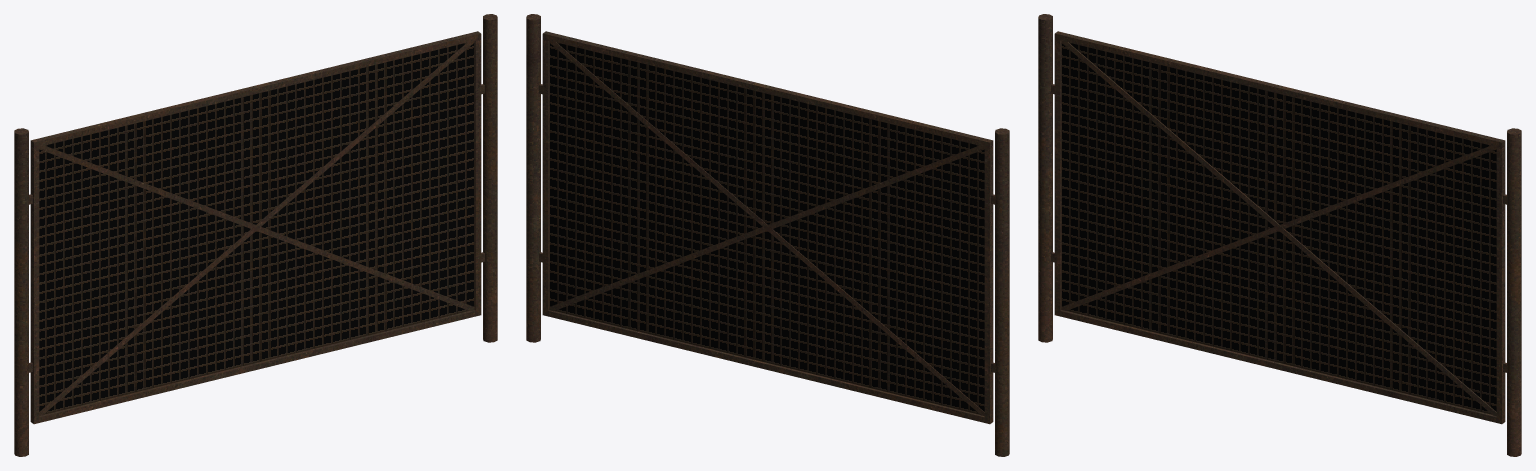
Rendered from fence_e_1.glb.
3 views of the same model, side by side, from view 1: azimuth 30°, elevation 25°; view 2: azimuth 150°, elevation 25°; view 3: azimuth 330°, elevation 25° (orthographic).
Parts seen in each view (by area): view 1: fence_e_1; view 2: fence_e_1; view 3: fence_e_1.
Boxes of the visible parts, x1=… form: fence_e_1: x1=14, y1=14, x2=497, y2=456; fence_e_1: x1=526, y1=14, x2=1009, y2=456; fence_e_1: x1=1038, y1=14, x2=1521, y2=456.
Size of the model in its own units: 3.6 by 2.3 by 0.1.
2 materials, 2 textured.
